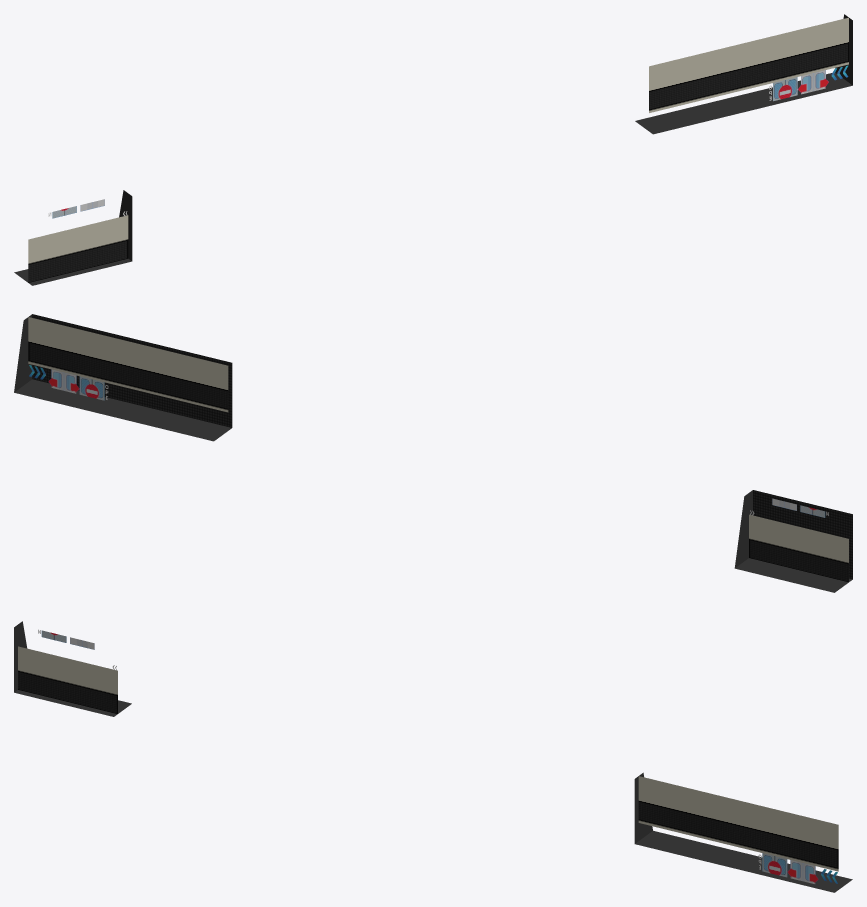
Rendered from cxd106_extra.obj.
The picture shows the model from 3 angles, top to bottom: view 1: azimuth 30°, elevation 25°; view 2: azimuth 150°, elevation 25°; view 3: azimuth 330°, elevation 25°; orthographic projection.
Parts seen in each view (by area): view 1: head.002, head.003, head.001, head.004; view 2: head.002, head.001, head.003, head.004; view 3: head.002, head.003, head.001, head.004.
Boxes of the visible parts, x1=… form: head.002: x1=649, y1=17, x2=848, y2=112; head.003: x1=28, y1=199, x2=128, y2=282; head.001: x1=635, y1=14, x2=852, y2=134; head.004: x1=14, y1=190, x2=132, y2=285; head.002: x1=28, y1=317, x2=228, y2=412; head.001: x1=14, y1=314, x2=232, y2=441; head.003: x1=749, y1=498, x2=848, y2=582; head.004: x1=734, y1=490, x2=852, y2=592; head.002: x1=638, y1=776, x2=838, y2=883; head.003: x1=18, y1=629, x2=117, y2=713; head.001: x1=634, y1=772, x2=852, y2=892; head.004: x1=14, y1=621, x2=131, y2=716.
Size of the model in its own units: 1.8 by 0.1365 by 0.0697.
